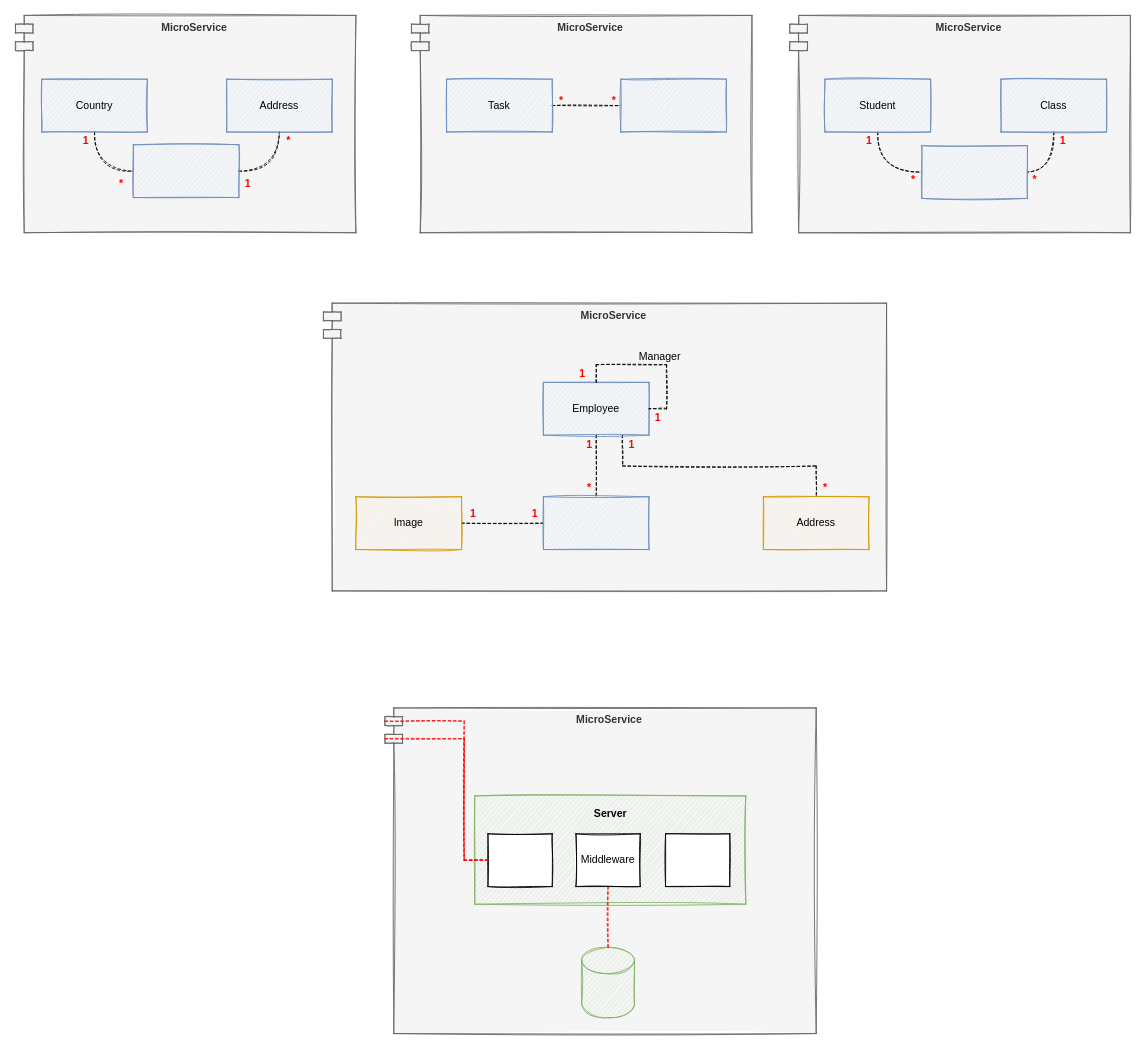
Image size: 1146x1049. Some labels were removed from this diagram. The shapes that lost their labels are listed below. From the top down, each one's box as (x1, y1, x2, y2) in pixels, then its label:
(620, 78, 726, 132): Tag
(132, 144, 239, 198): City
(921, 145, 1027, 198): Enrollment
(543, 496, 649, 550): Detail
(487, 833, 552, 887): Router
(665, 833, 730, 887): Models
(581, 946, 634, 1018): Database
